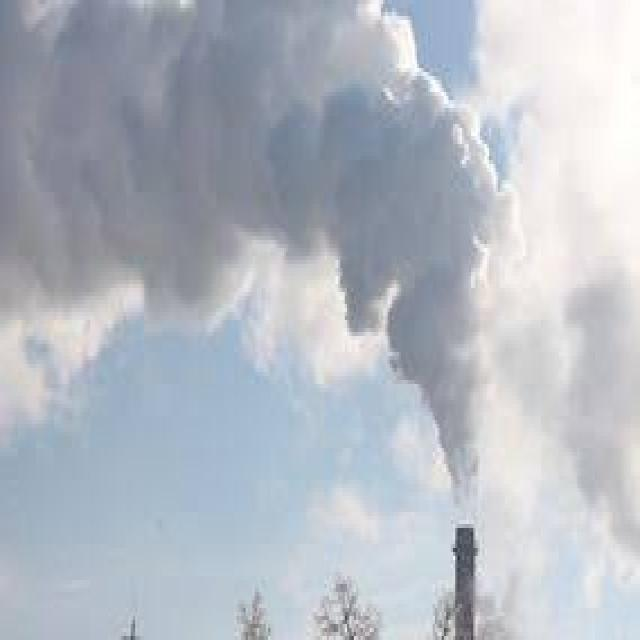Smoke: (0, 0, 525, 510)
